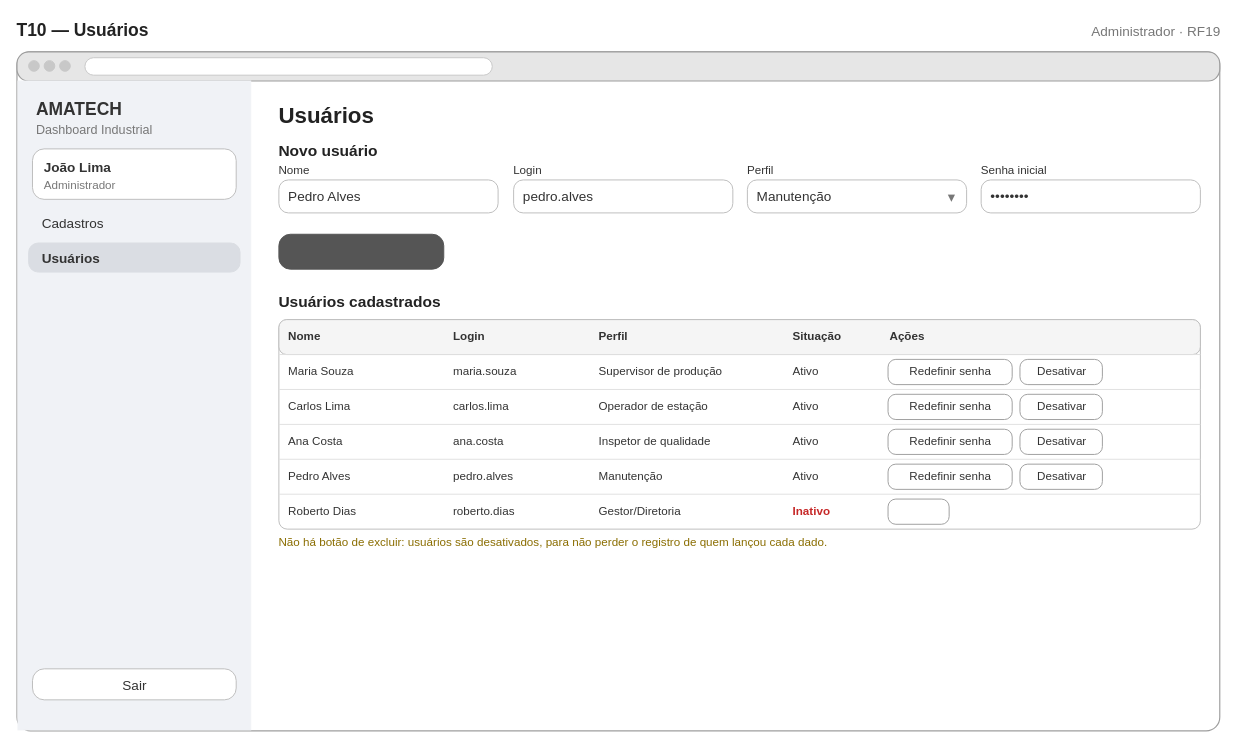
This 1238x748 diagram has some shape labels left out. The shapes that lost their labels are listed below. From the top down, each one's centre as x and y in pixels, then its label:
point (288, 66): localhost:8501
point (361, 251): Criar usuário
point (918, 511): Ativar
